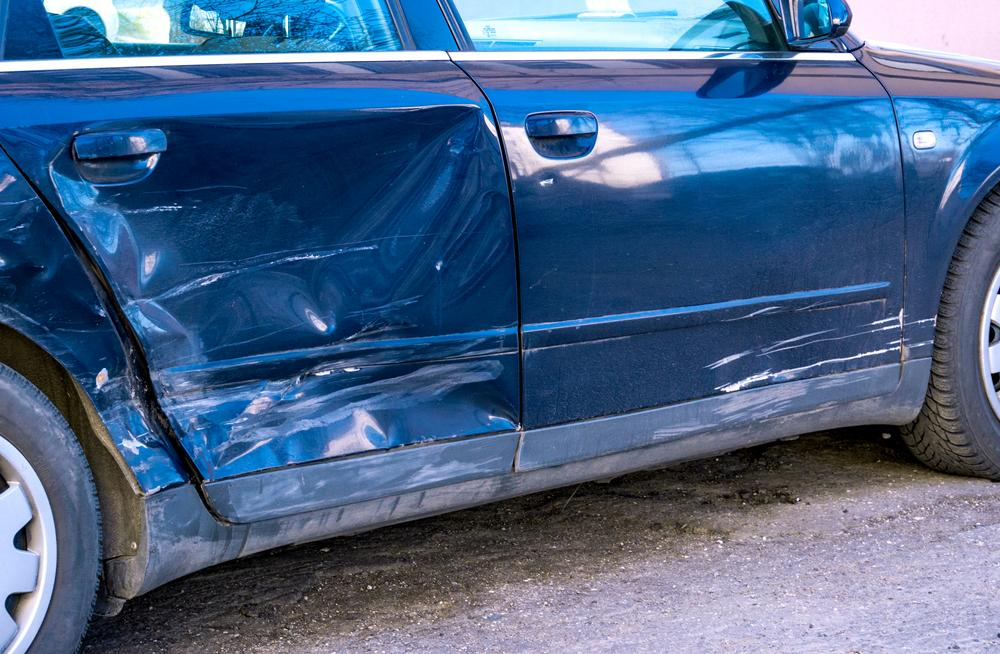dent: (51, 105, 519, 481), (0, 145, 184, 496), (535, 171, 557, 189)
scratch: (696, 296, 938, 436)
